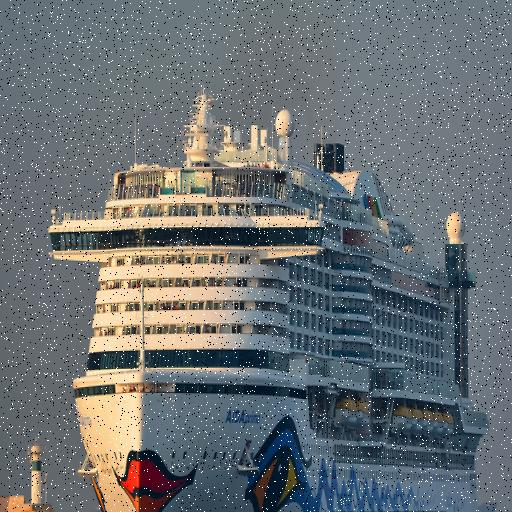cruises: (37, 79, 500, 512)
